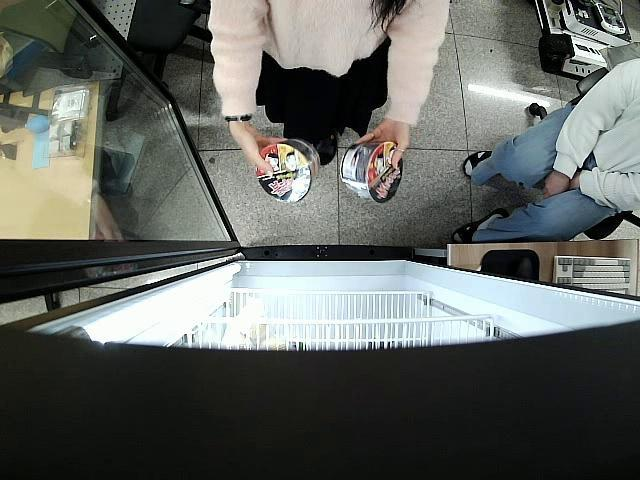07_buldak_L: (336, 138, 404, 204), (256, 137, 320, 204)
